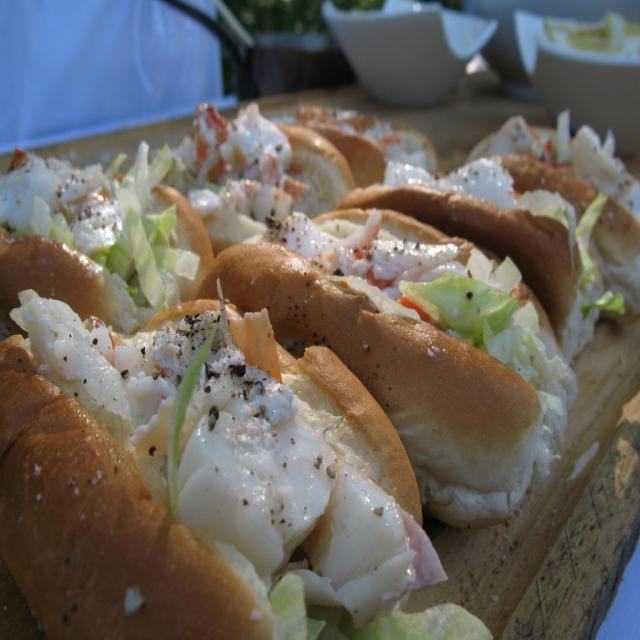Hot dog: (235, 168, 617, 510)
